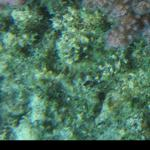dead: (1, 1, 148, 138)
